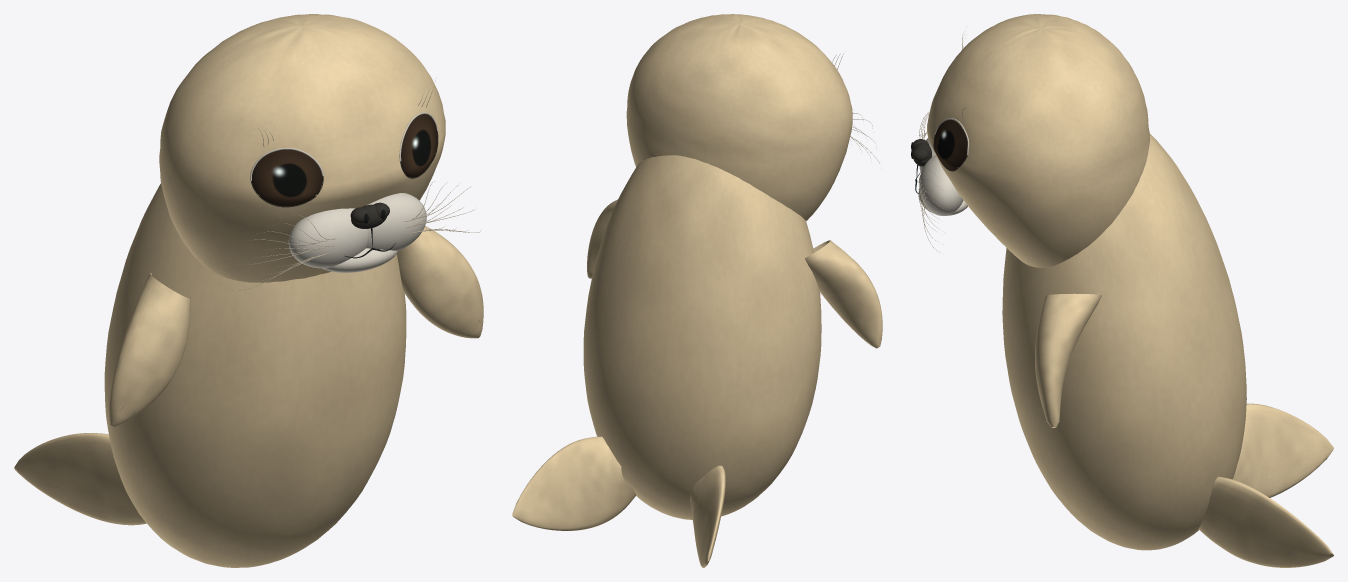
Rendered from seal-harp-pup.glb.
3 renders of one model, left to right at view 1: azimuth 30°, elevation 25°; view 2: azimuth 150°, elevation 25°; view 3: azimuth 270°, elevation 25°, orthographic. The views are drawn at different scales.
Visible parts, largest first — view 1: Body sculpted torpedo torso, Sculpted face and sensory whiskers, Webbed flipper (×3), Wet almond eye (×2), Soft chin; view 2: Body sculpted torpedo torso, Sculpted face and sensory whiskers, Webbed flipper (×4); view 3: Body sculpted torpedo torso, Sculpted face and sensory whiskers, Webbed flipper (×3), Wet almond eye.
Boxes of the visible parts, x1,y1,x2,y2 form: Body sculpted torpedo torso: (104,183,406,567); Sculpted face and sensory whiskers: (159,14,480,290); Webbed flipper (×3): (14,226,483,525); Wet almond eye (×2): (251,114,437,206); Soft chin: (322,248,398,272); Body sculpted torpedo torso: (583,155,821,519); Sculpted face and sensory whiskers: (626,14,879,220); Webbed flipper (×4): (512,199,882,567); Body sculpted torpedo torso: (1002,134,1246,550); Sculpted face and sensory whiskers: (911,14,1150,267); Webbed flipper (×3): (1035,293,1333,567); Wet almond eye: (934,119,967,170).
Bounding box in the file's own units: 1.88 × 2.77 × 2.07.
Materials: 7 (2 with a texture image).
